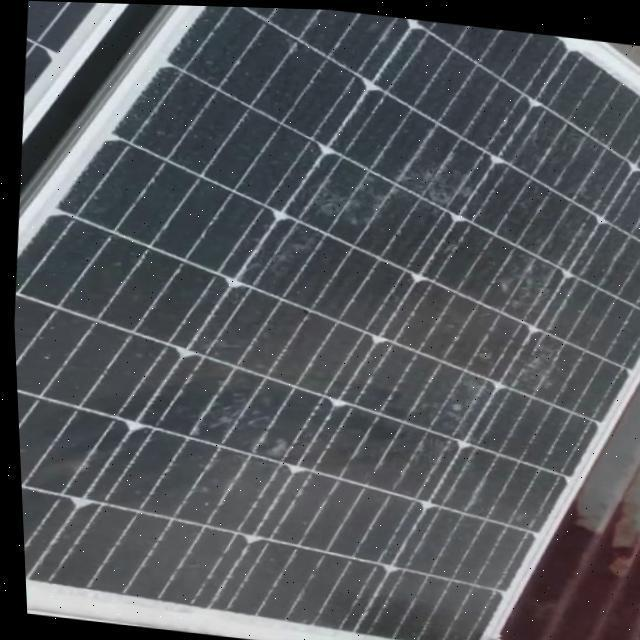Normal Solar Panel: (15, 0, 146, 154)
